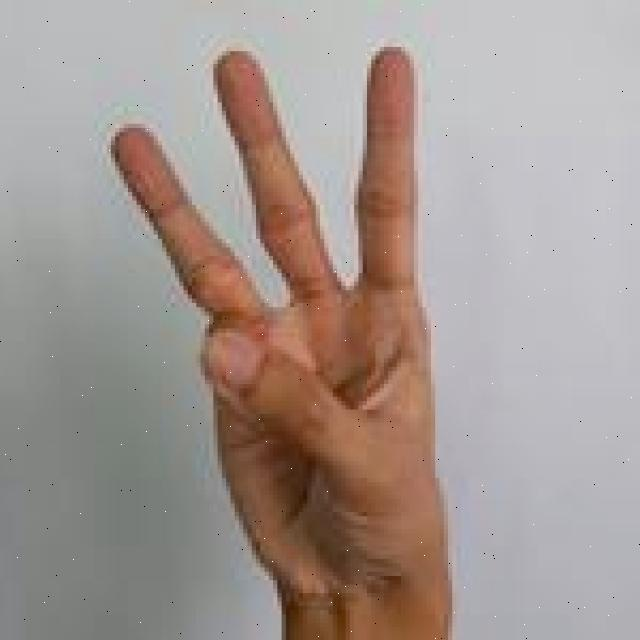W: (98, 38, 461, 640)
